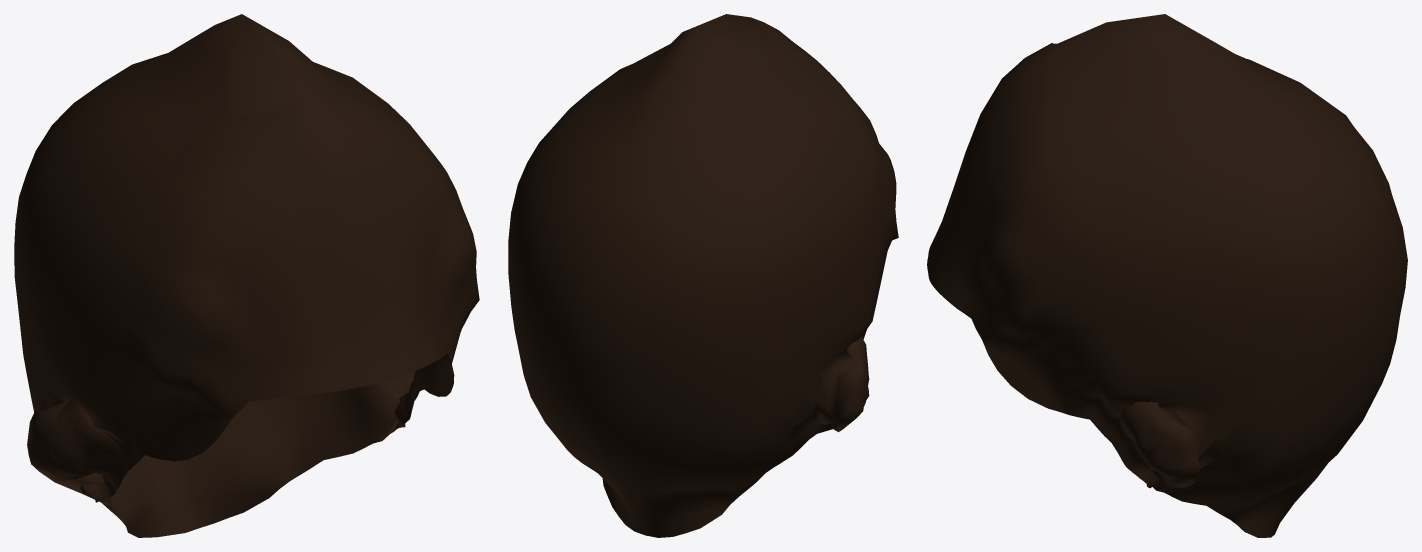
Rendered from hair_quiff.glb.
The picture shows the model from 3 angles, left to right: view 1: azimuth 30°, elevation 25°; view 2: azimuth 150°, elevation 25°; view 3: azimuth 270°, elevation 25°; orthographic projection. The views are drawn at different scales.
Parts seen in each view (by area): view 1: hair_quiff; view 2: hair_quiff; view 3: hair_quiff.
Boxes of the visible parts, box(x1,y1,x2,y2) form: hair_quiff: box(14, 14, 479, 537); hair_quiff: box(508, 14, 898, 537); hair_quiff: box(927, 14, 1407, 537).
Size of the model in its own units: 0.2105 by 0.2818 by 0.2388.
